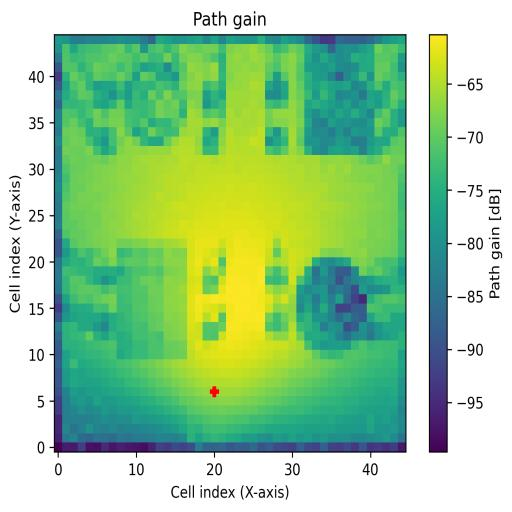Concrete: (305, 43, 375, 156)
Glass: (117, 46, 187, 147)
Metal: (295, 258, 387, 349)
Wood: (116, 247, 188, 359)
